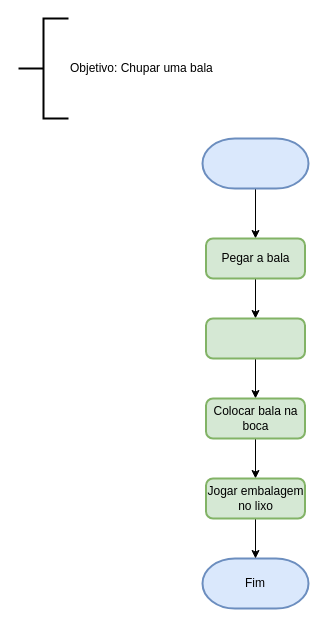
Some shapes in this 326 by 626 pixel diagram are drawn without their labels. The box of each missing label's shape, as (x1, y1, x2, y2) in pixels:
Inicio: (201, 137, 309, 189)
Tirar embalagem da bala: (204, 317, 306, 359)
